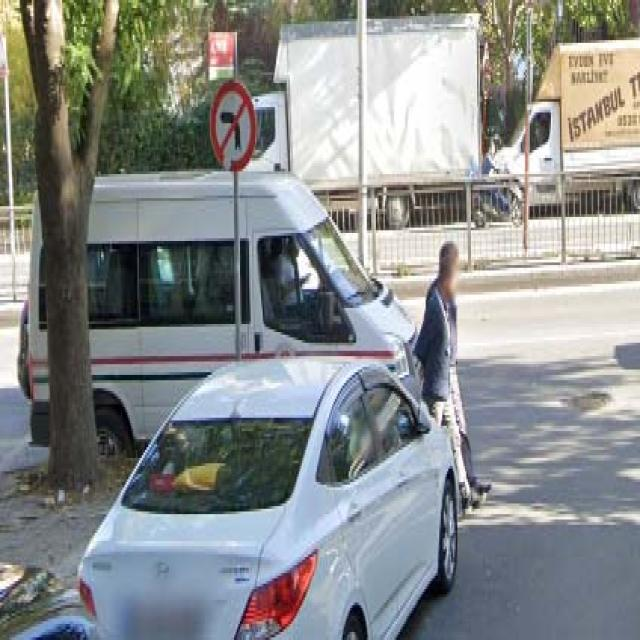soladonulmez: (210, 80, 256, 172)
